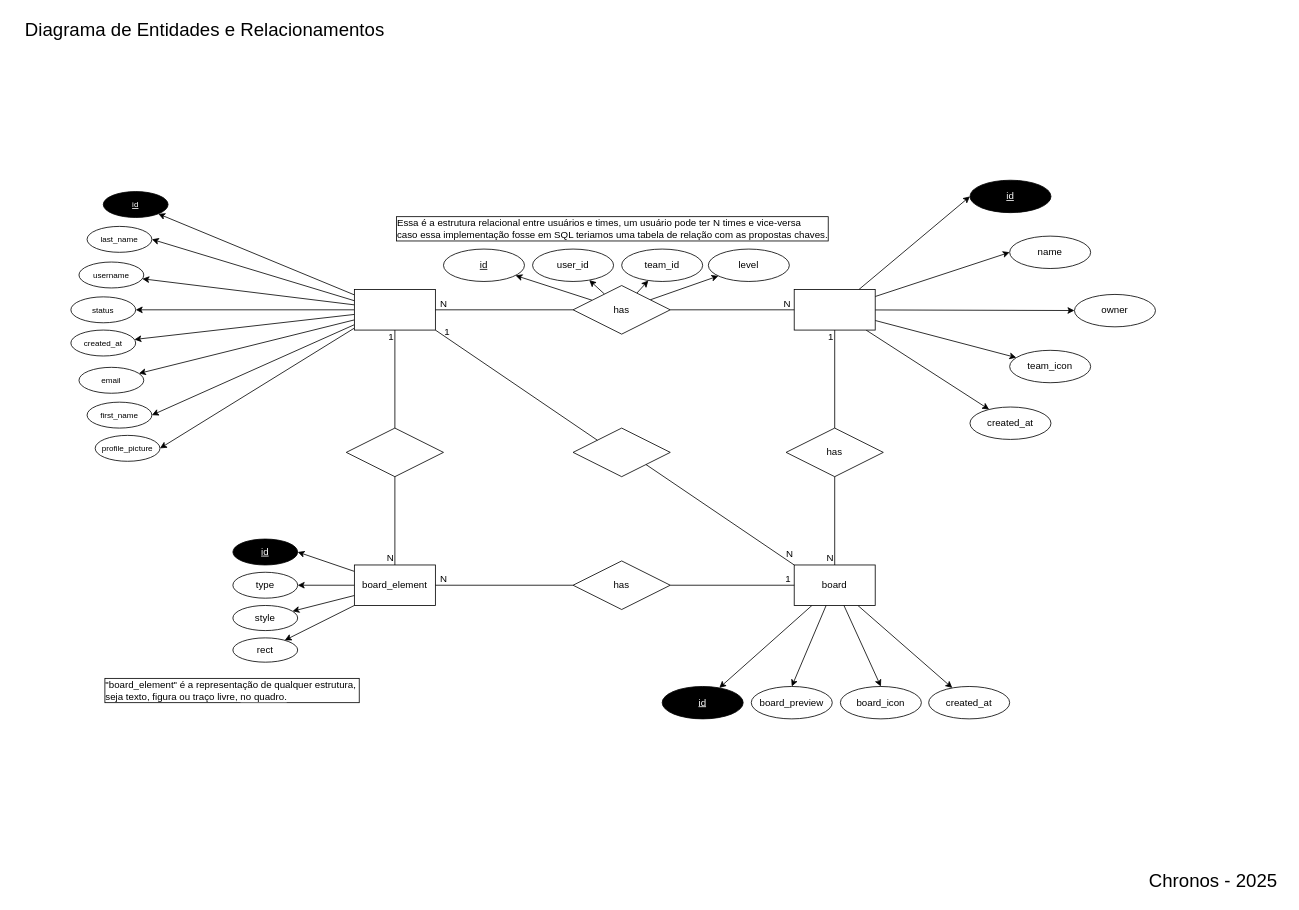
Image size: 1299x910. Some labels were removed from this diagram. The shapes that lost their labels are listed below. From the top down, each one's centre as x and y in pixels, then its label:
the point at 394,309: user
the point at 834,309: team
the point at 394,452: create
the point at 621,452: acess
